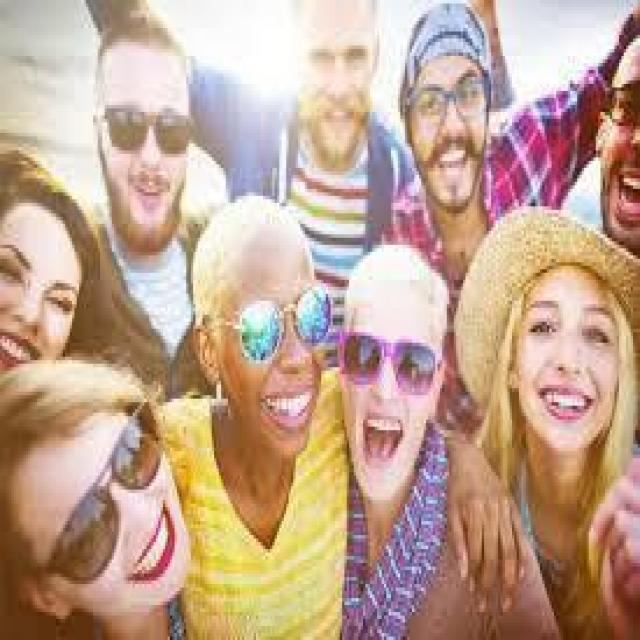person: (149, 214, 396, 636), (323, 214, 542, 636), (35, 4, 261, 398), (174, 0, 419, 339), (374, 14, 588, 287), (0, 339, 205, 623), (493, 213, 638, 549), (0, 133, 121, 430), (549, 31, 638, 262)
